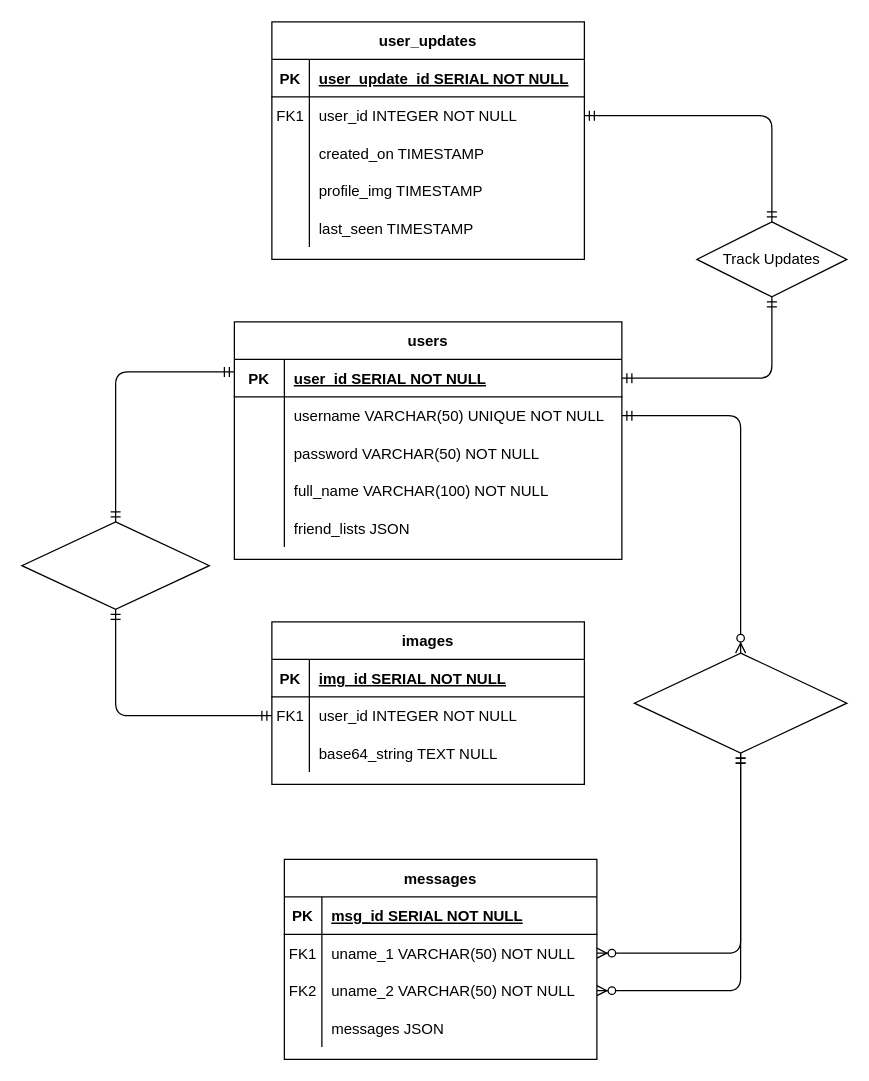
This 869x1081 diagram has some shape labels left out. The shapes that lost their labels are listed below. From the top down, each one's centre as x and y in pixels, then its label:
At (115,565): "Has Profile Image".
At (740,702): "Exchanges Messages".
